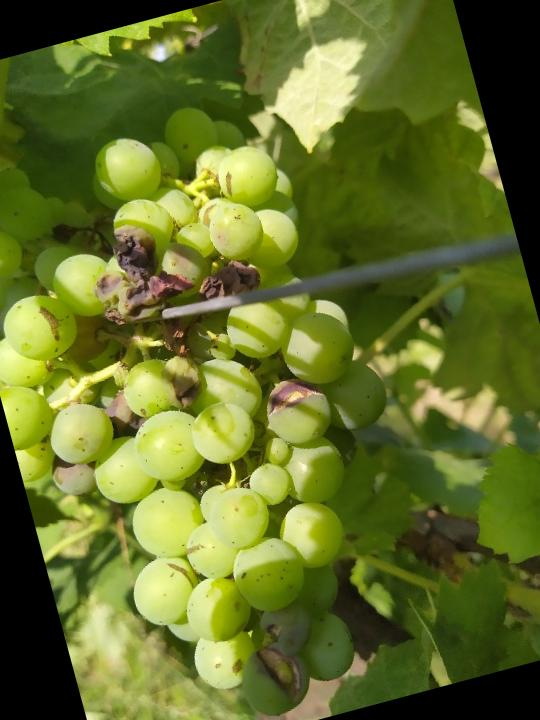grape: (0, 75, 465, 720)
